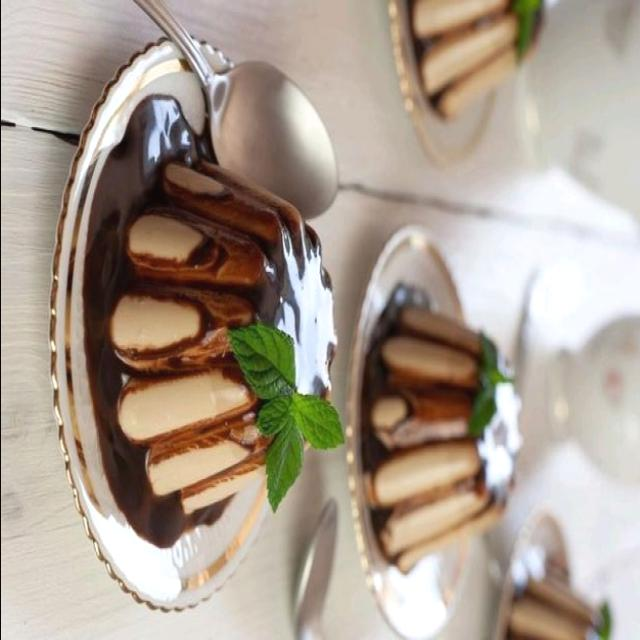puding: (77, 93, 345, 555)
